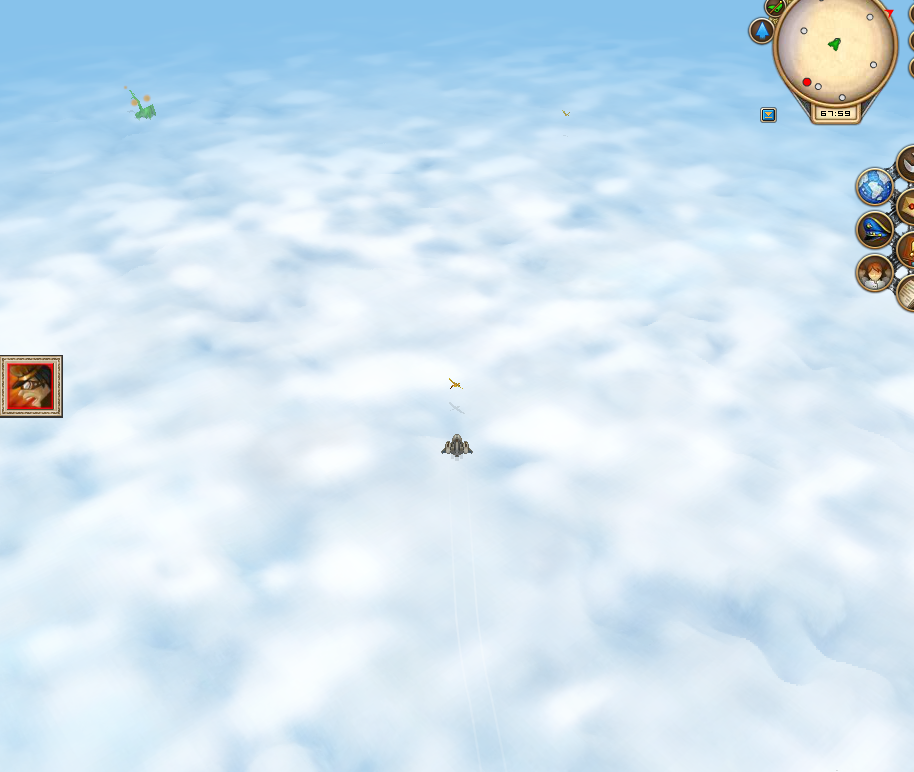dandelion-full: (117, 79, 160, 124)
